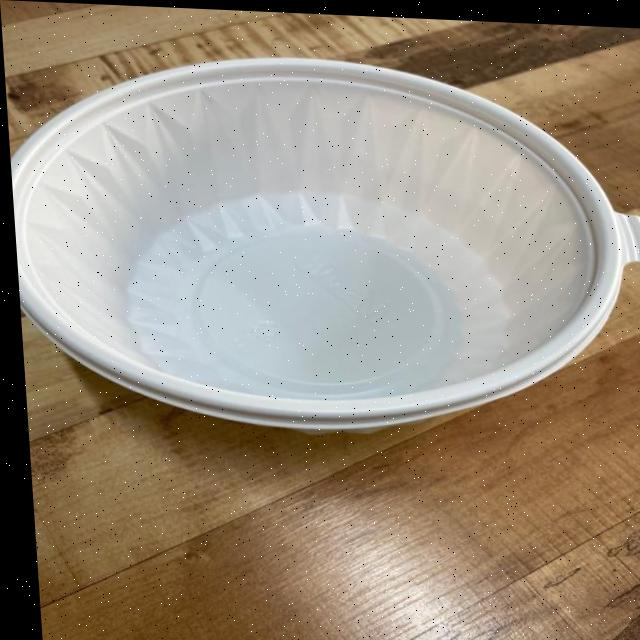disposable: (3, 50, 640, 460)
